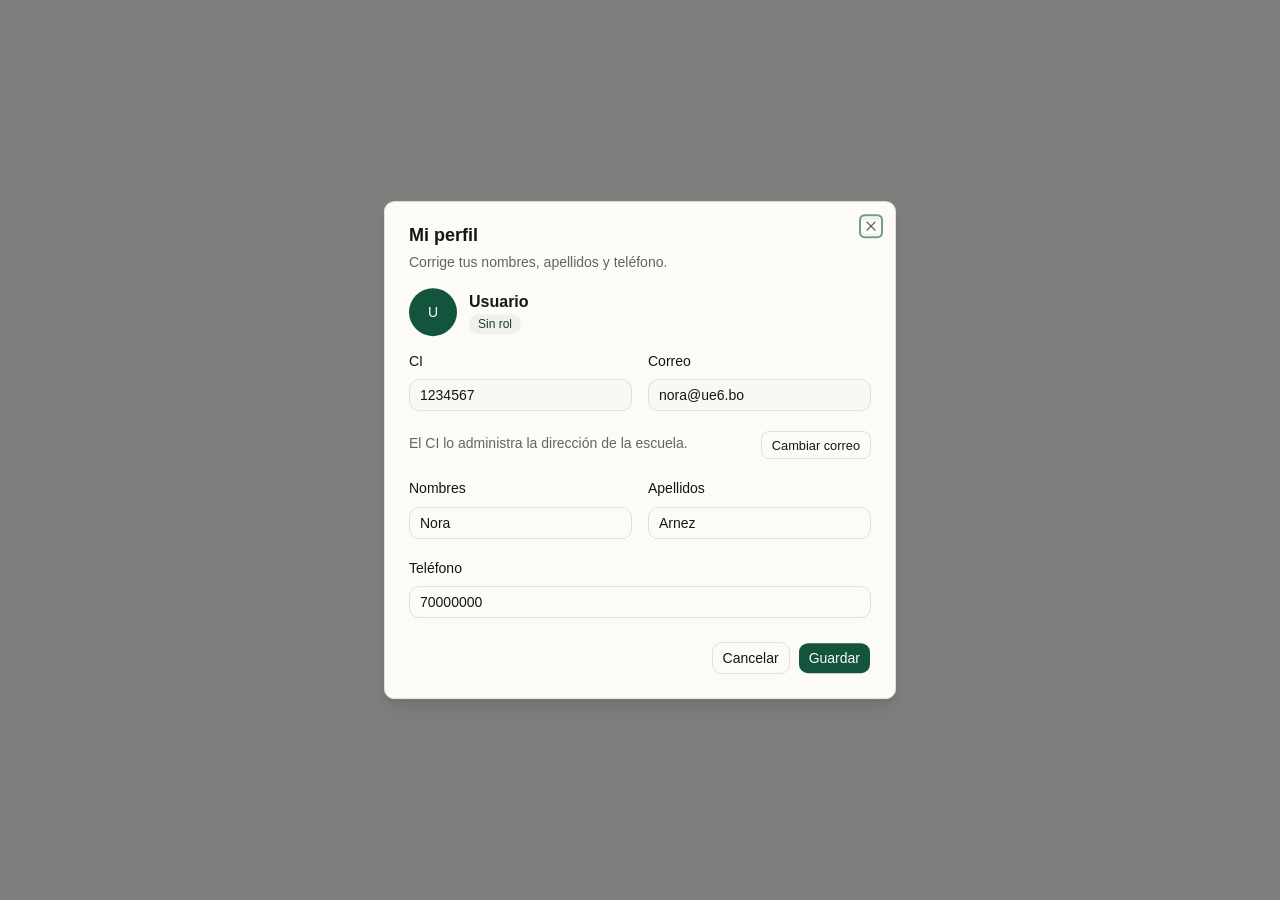
it: ProfileDialog › no manda nada si los nombres quedan vacíos
The image size is (1280, 900).
Clear the field labelled "Nombres" at (520, 523), box [409,507,632,539]
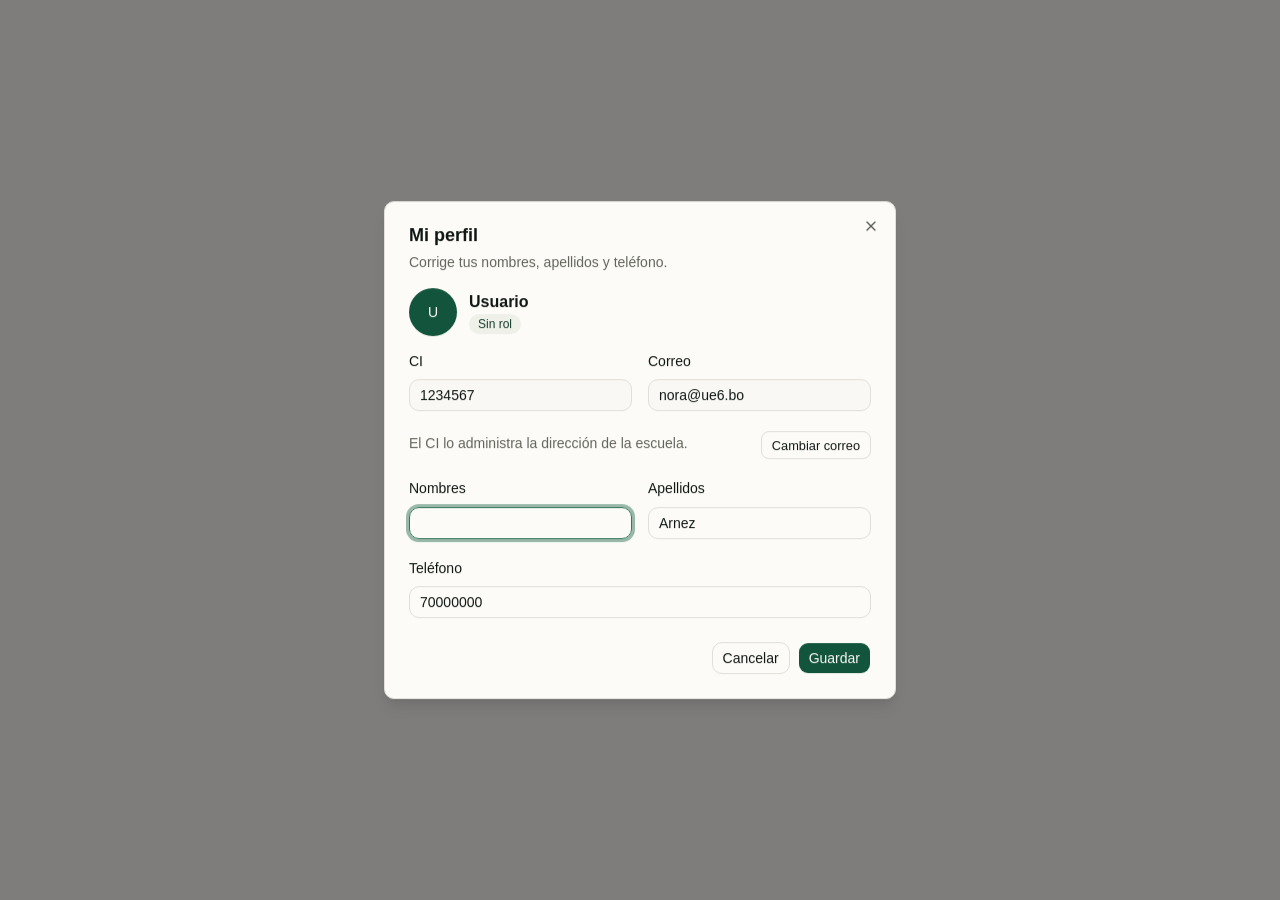
Click the button "Guardar" at (834, 658), box [798,642,871,674]
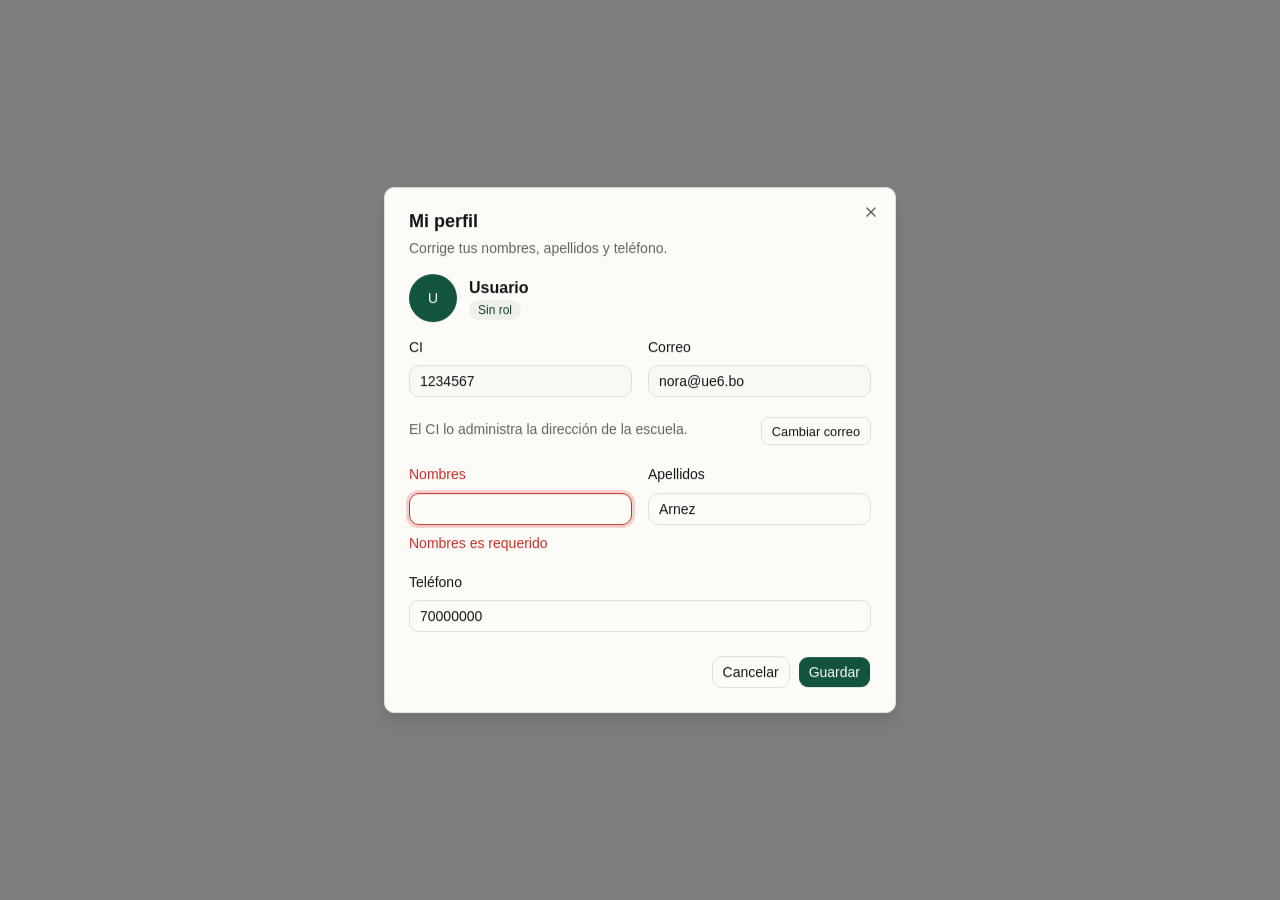
Expected: the text "Nombres es requerido" is shown, [409,535,548,551]
